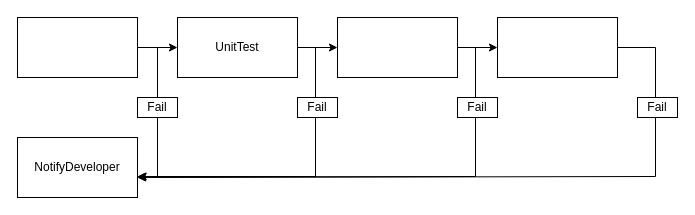
Image size: 695x215. Some labels were removed from this diagram. Each missing label, with the box of its shape:
Build: (16, 16, 138, 78)
CodeCoverage CodeStyleCheck: (336, 16, 458, 78)
InternalDeploy: (496, 16, 618, 78)
